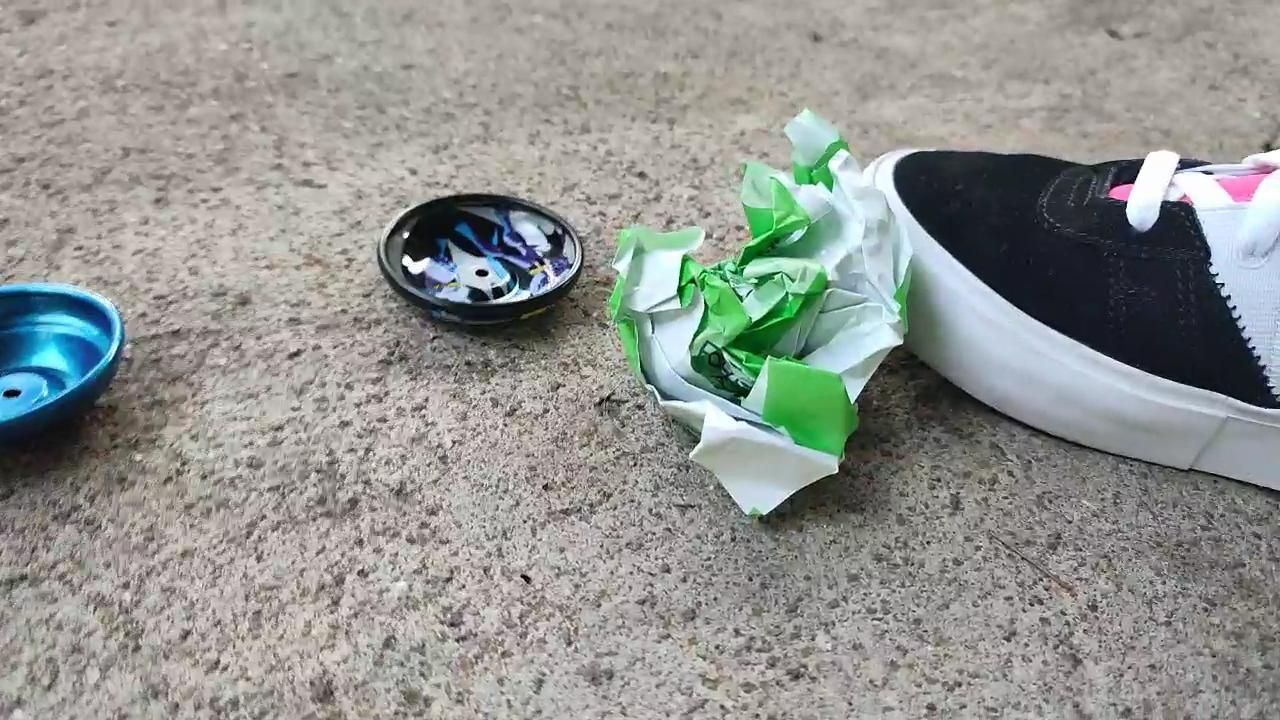Paper: (596, 85, 923, 533)
